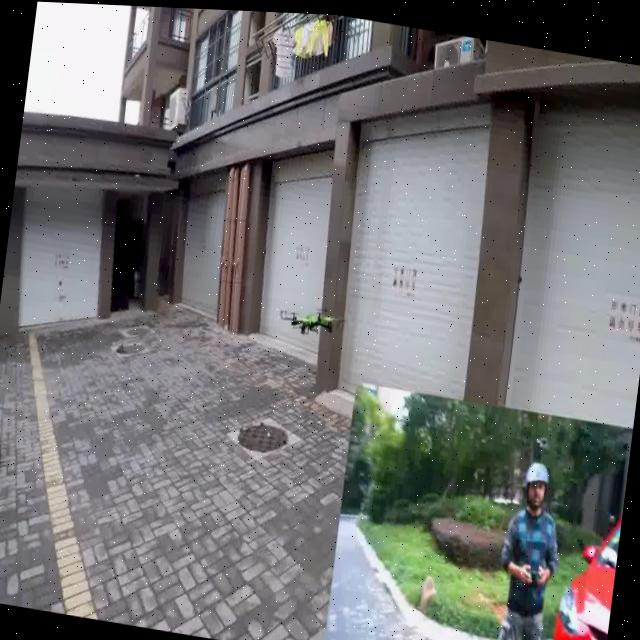drone: (276, 297, 346, 339)
